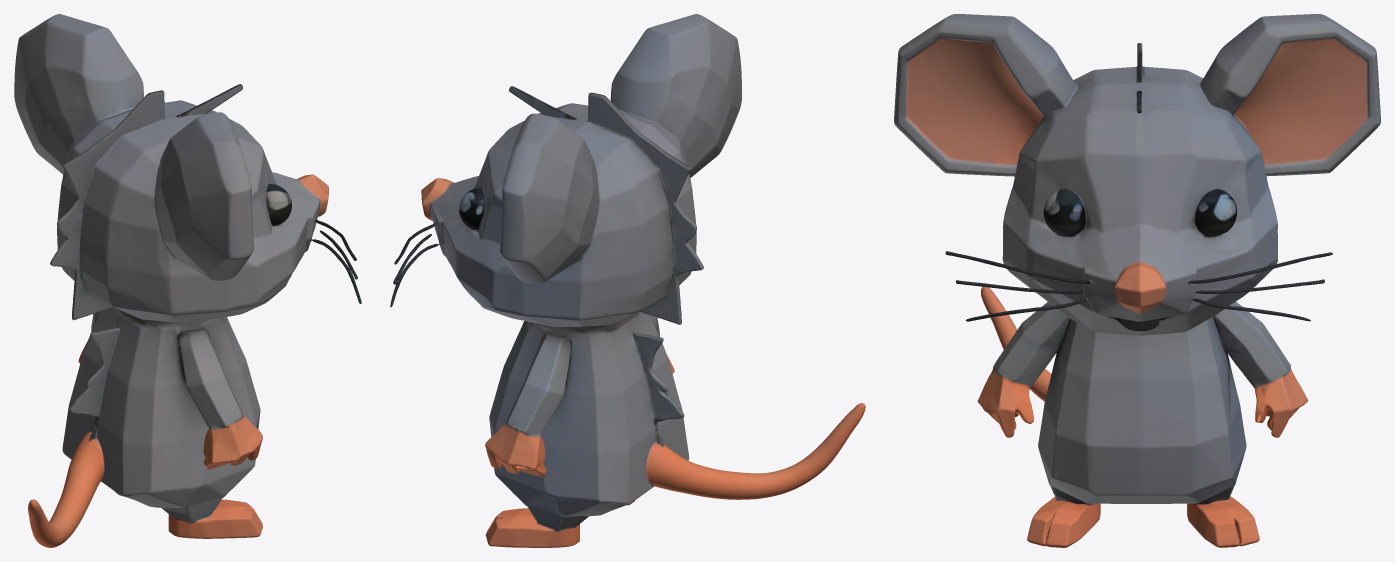
The model's file is mouse.glb.
The picture shows the model from 3 angles, left to right: view 1: azimuth 30°, elevation 25°; view 2: azimuth 150°, elevation 25°; view 3: azimuth 270°, elevation 25°; orthographic projection. The views are drawn at different scales.
Parts seen in each view (by area): view 1: tripo_node_c96c22c3-4e55-49f7-9596-5fa16f55f954; view 2: tripo_node_c96c22c3-4e55-49f7-9596-5fa16f55f954; view 3: tripo_node_c96c22c3-4e55-49f7-9596-5fa16f55f954.
Boxes of the visible parts, x1,y1,x2,y2 form: tripo_node_c96c22c3-4e55-49f7-9596-5fa16f55f954: [14, 14, 361, 547]; tripo_node_c96c22c3-4e55-49f7-9596-5fa16f55f954: [390, 14, 865, 547]; tripo_node_c96c22c3-4e55-49f7-9596-5fa16f55f954: [894, 14, 1380, 547].
Bounding box in the file's own units: 0.8694 × 1 × 0.8963.
Materials: 1 (1 with a texture image).
